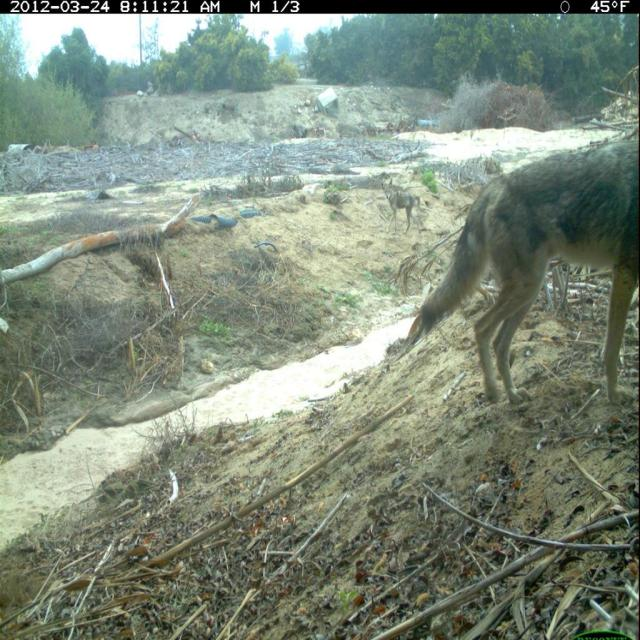coyote: (409, 123, 638, 413)
